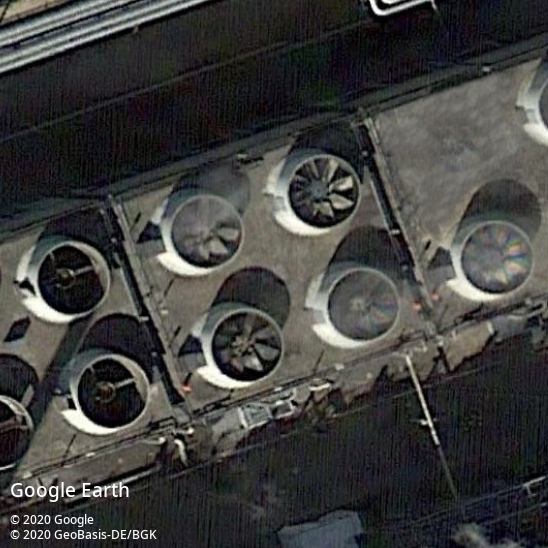Vent: (459, 219, 536, 298), (168, 194, 245, 271), (286, 154, 362, 230), (325, 267, 401, 343), (36, 241, 111, 318), (209, 308, 284, 384), (76, 355, 150, 431)
